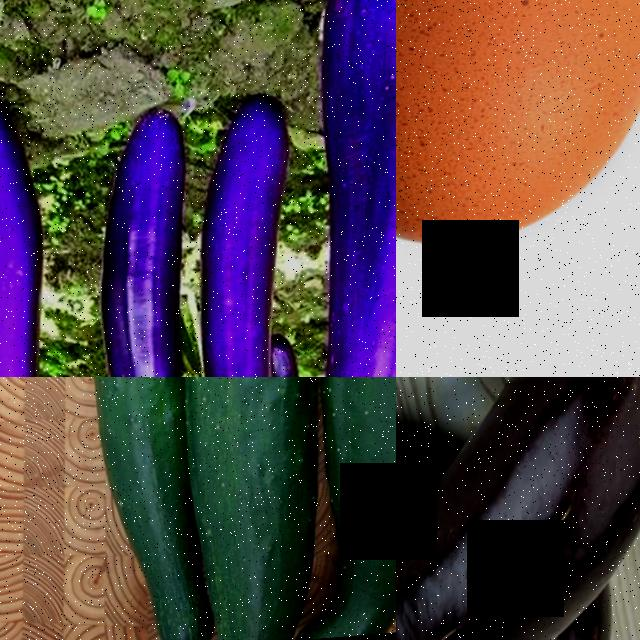cucumber: (161, 377, 330, 640), (67, 377, 205, 640), (295, 377, 396, 640)
egg_: (396, 0, 640, 278)
eggplant: (438, 377, 640, 630), (300, 0, 396, 377), (88, 106, 196, 377), (191, 97, 293, 377), (0, 145, 56, 377), (264, 345, 300, 377)
